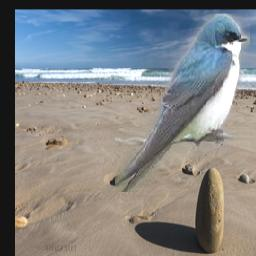Swallow: (114, 14, 249, 192)
